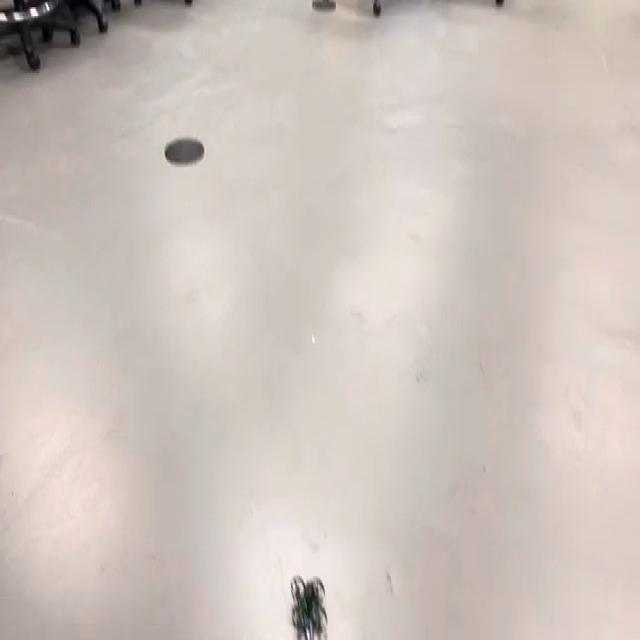drone: (285, 562, 333, 640)
